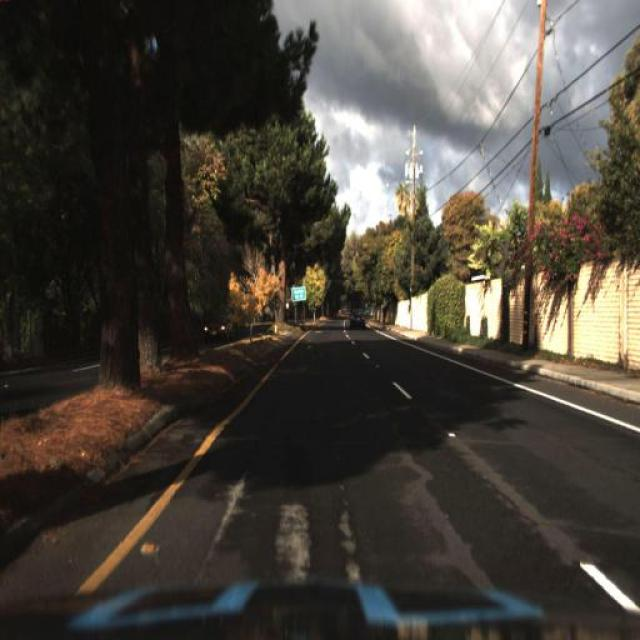car: (203, 312, 234, 346), (350, 308, 366, 331)
